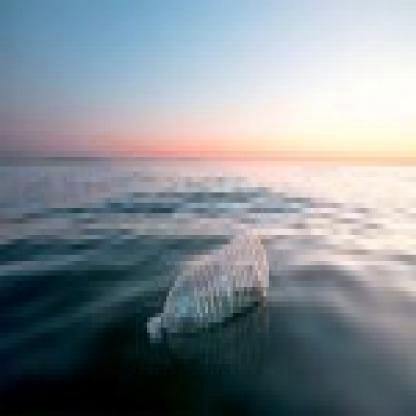Plastic: (134, 224, 274, 350)
